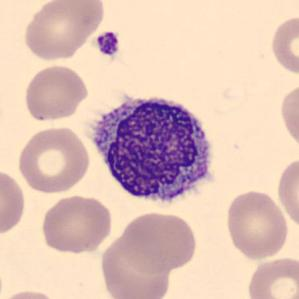Monocyte: (84, 87, 221, 215)
Platelets: (94, 30, 120, 58)
RBC: (14, 124, 92, 196), (117, 209, 199, 275), (21, 0, 106, 63), (222, 188, 290, 261), (38, 193, 115, 254), (98, 236, 170, 299), (21, 62, 90, 123), (244, 255, 299, 299), (267, 13, 299, 77), (0, 166, 28, 238), (274, 153, 299, 231), (277, 79, 299, 152), (0, 286, 61, 299)
